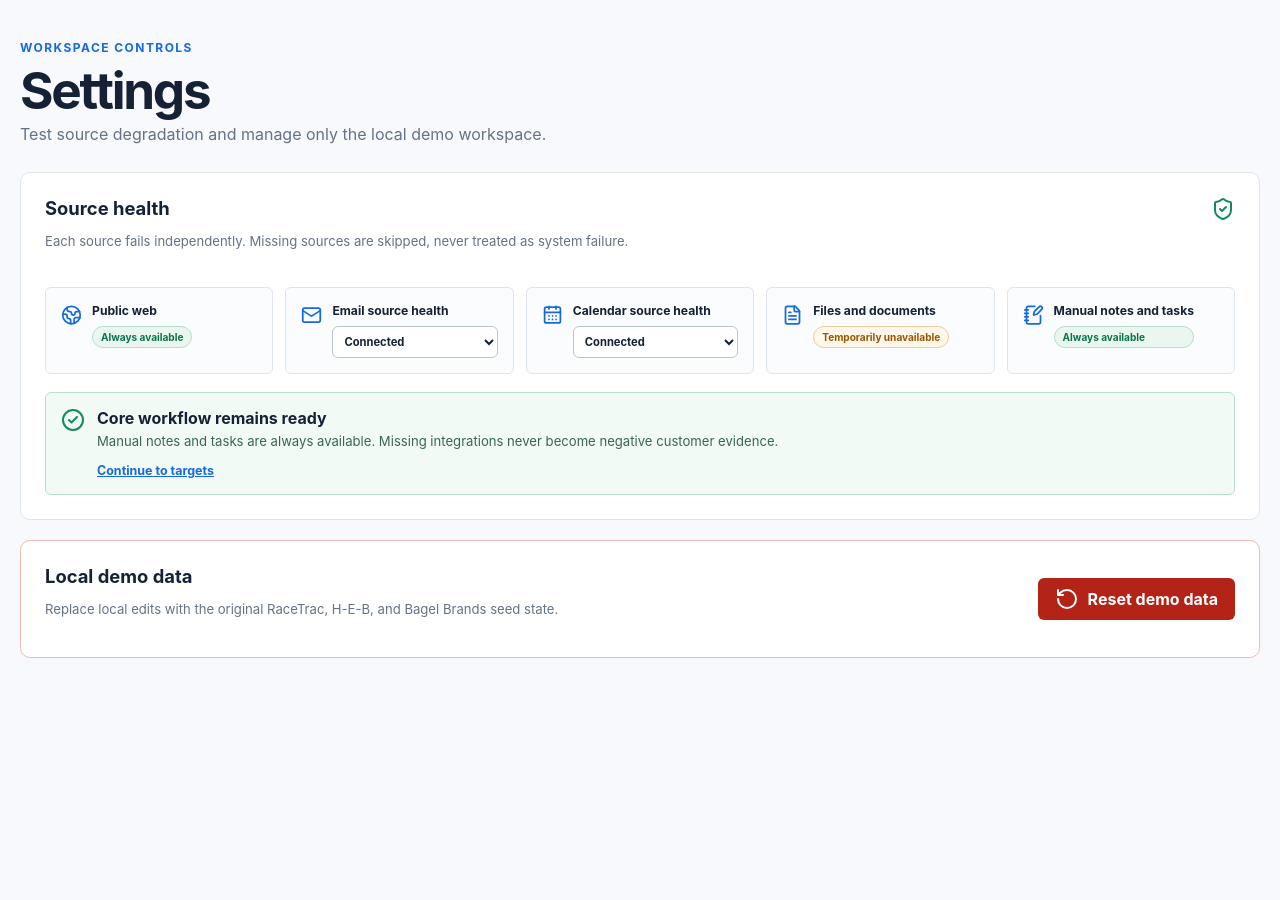
requires explicit confirmation before resetting demo data
The image size is (1280, 900).
Step 1. Click the button "Reset demo data" → (1136, 599), box [1038,578,1235,620]
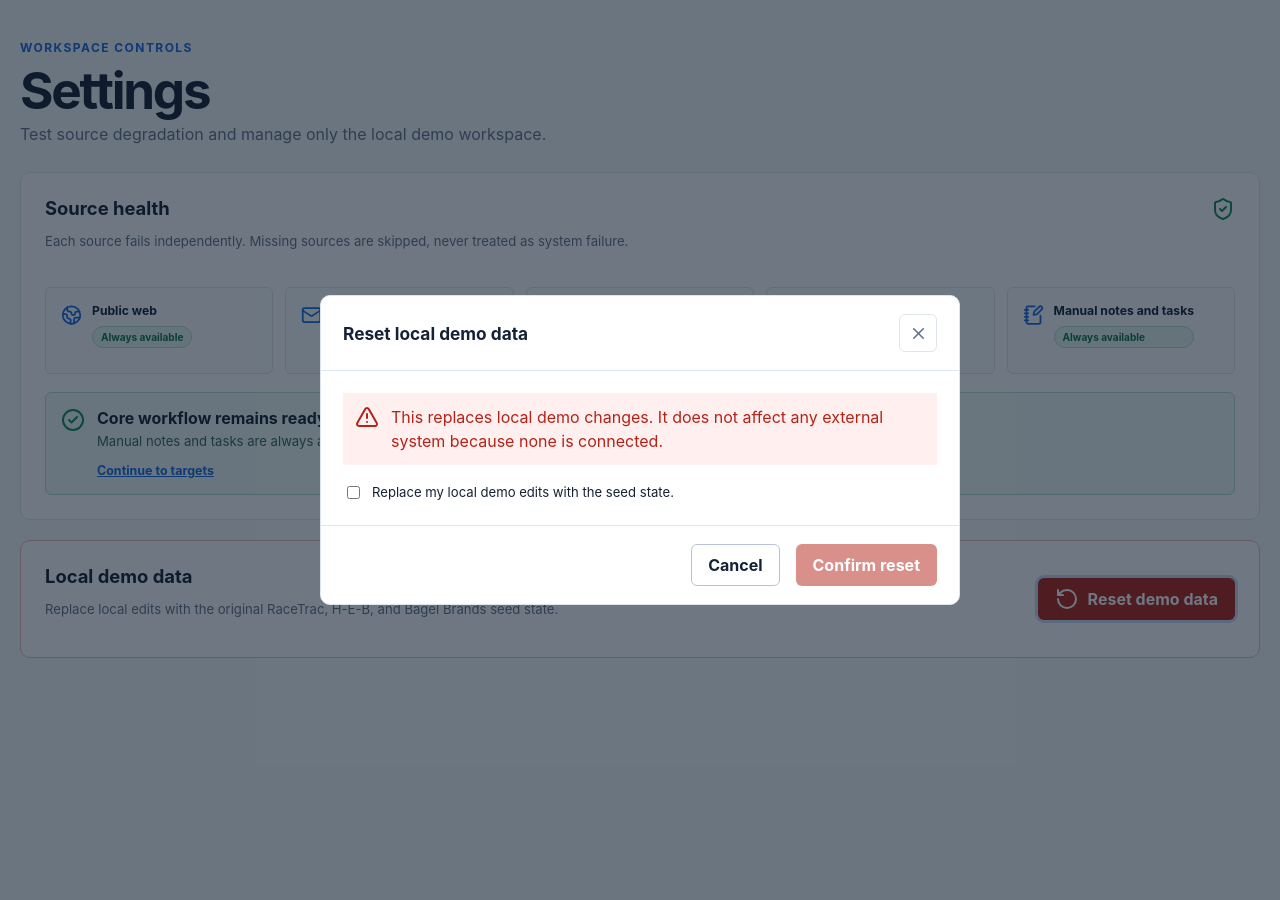
Expected: the dialog "Reset local demo data" is shown, [320,296,960,604]
Expected: the button "Confirm reset" is disabled, [796,544,937,586]
Step 2. Click the checkbox labelled "Replace my local demo edits with the seed state." → (354, 493), box [347,486,360,500]
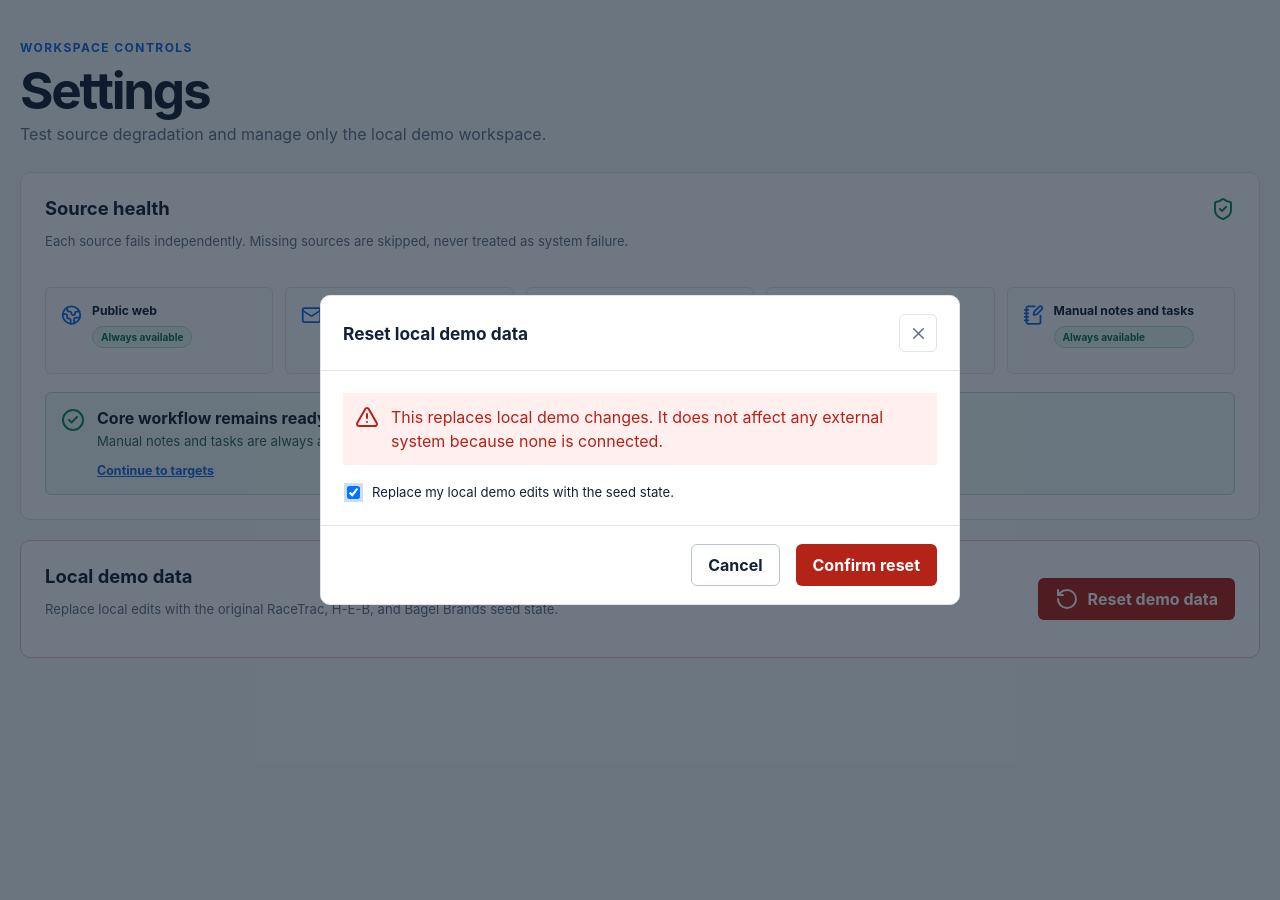
Expected: the button "Confirm reset" is enabled, [796,544,937,586]
